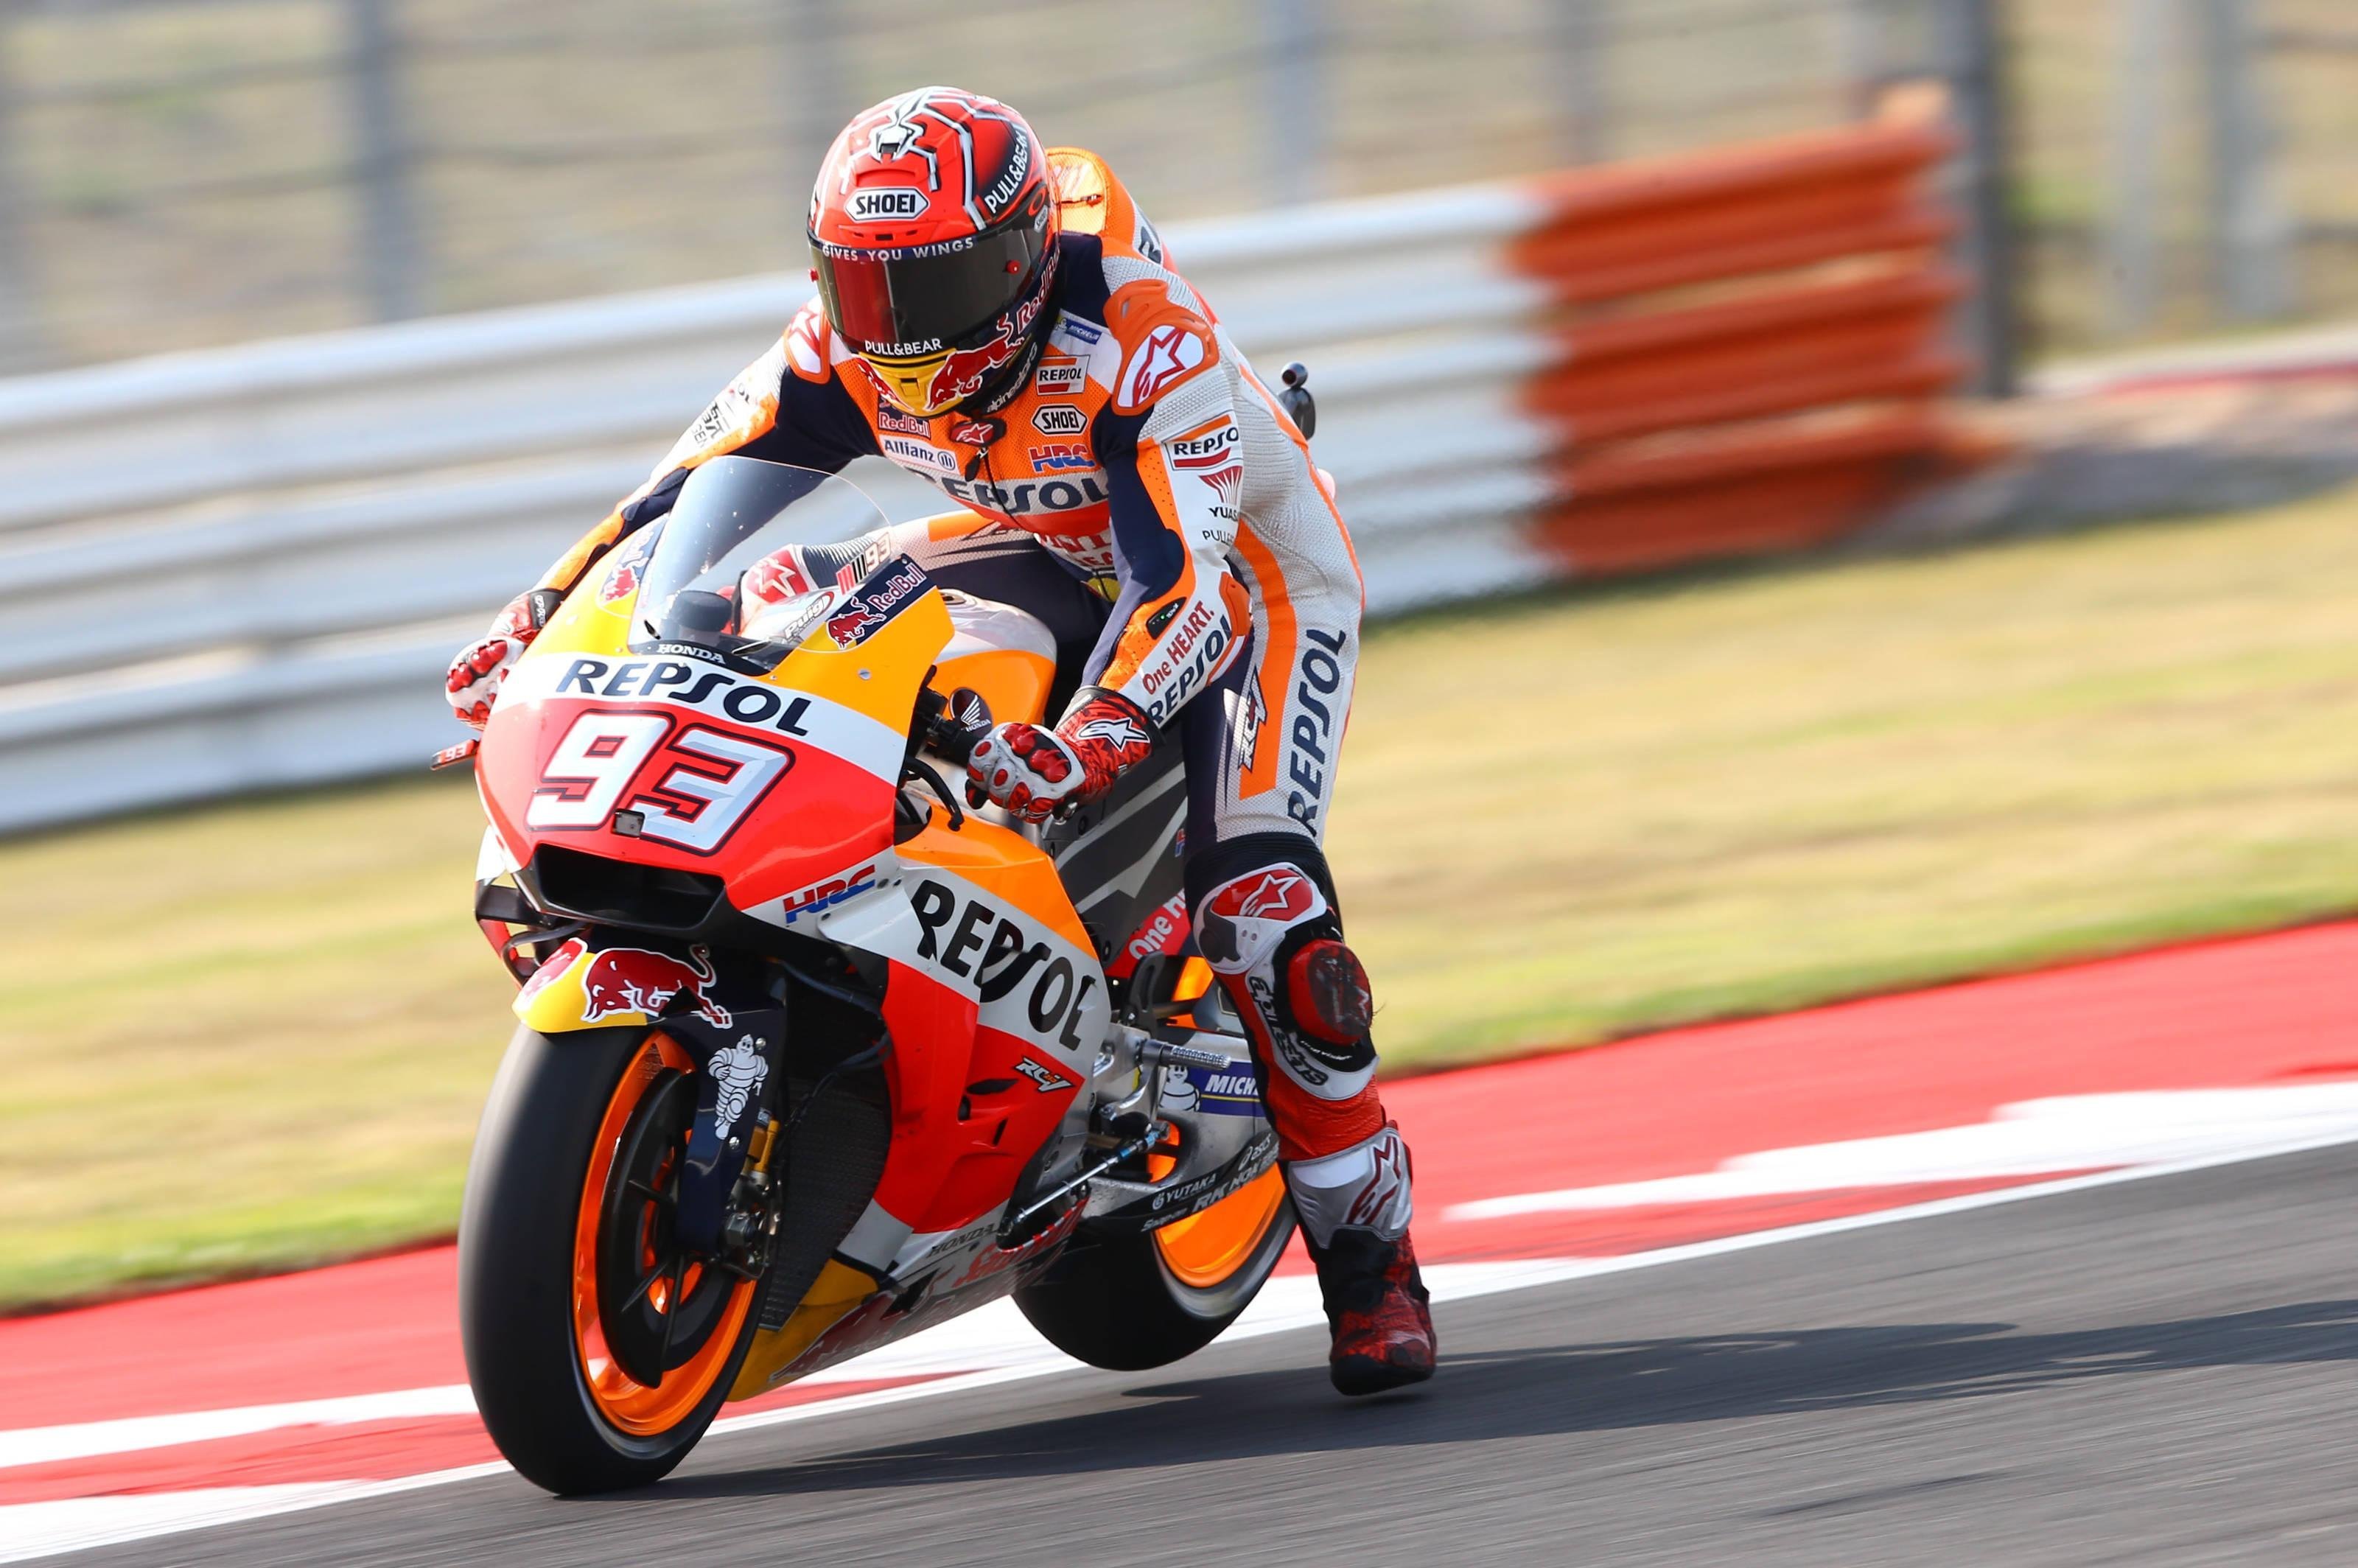helmet: (780, 57, 1096, 436)
